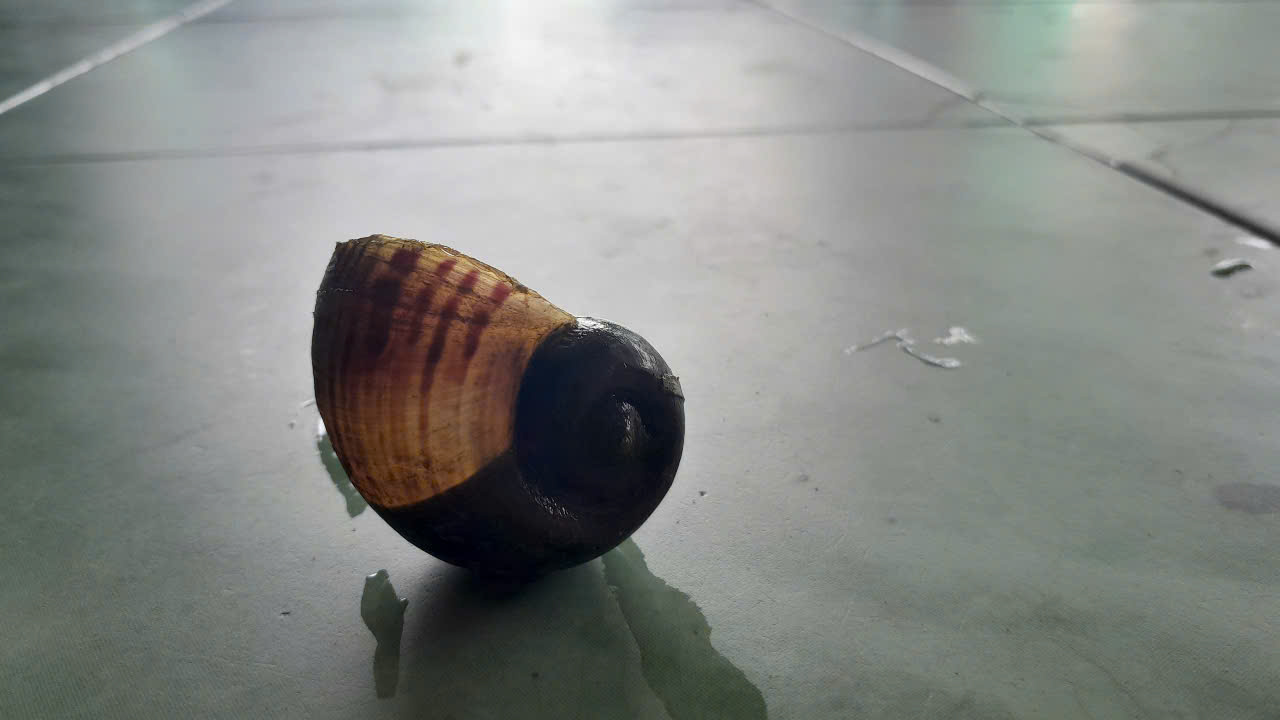oc_buou_vang: (296, 194, 711, 602)
